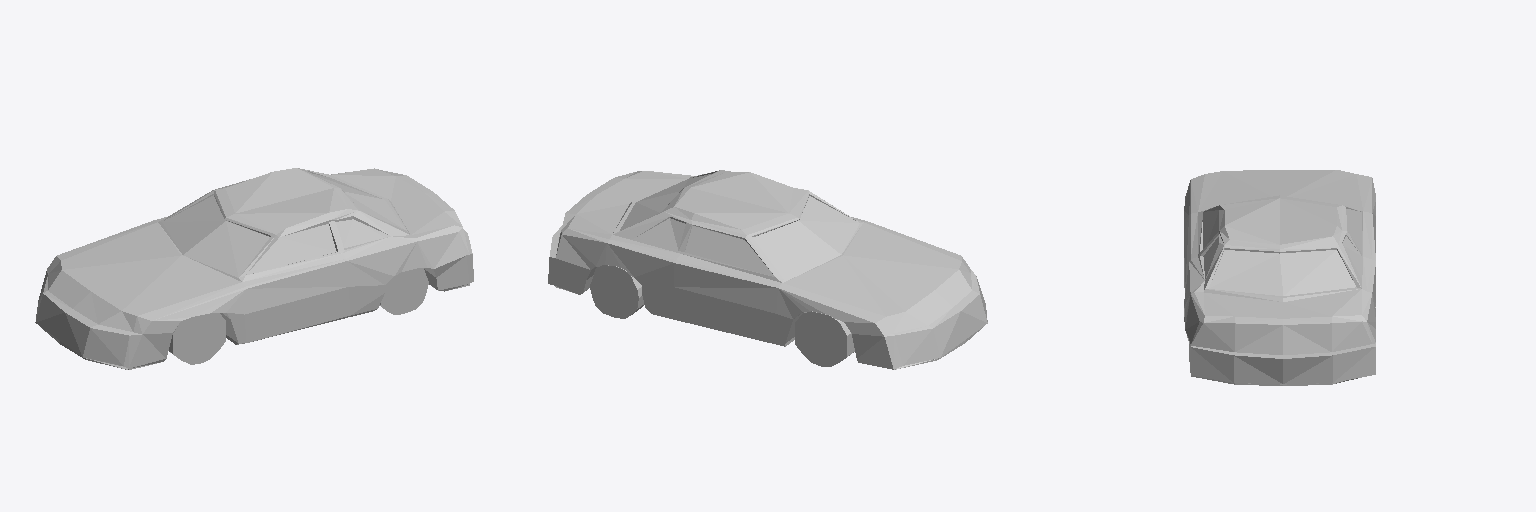
The model's file is car.obj.
3 views of the same model, side by side, from view 1: azimuth 30°, elevation 25°; view 2: azimuth 150°, elevation 25°; view 3: azimuth 270°, elevation 25° (orthographic).
Size of the model in its own units: 313 by 79.87 by 133.